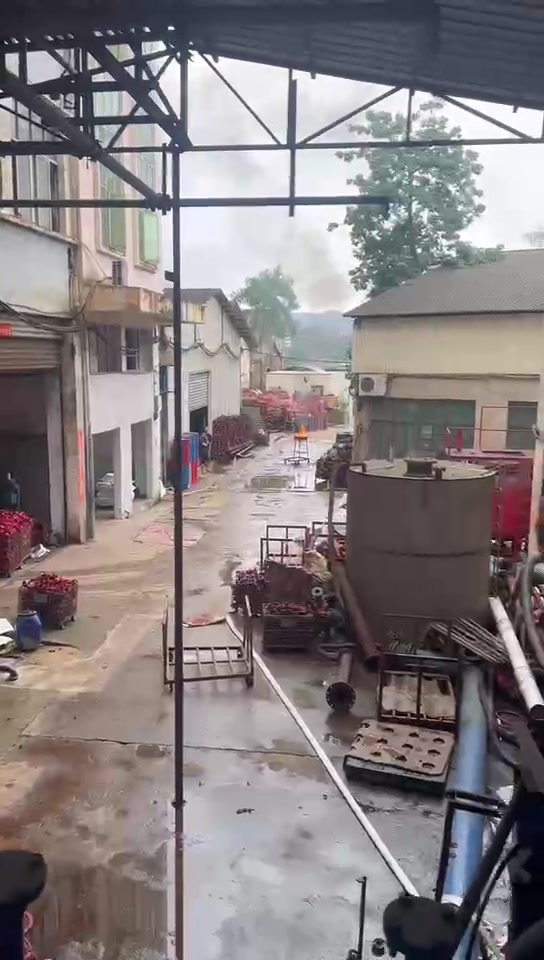fire: (295, 424, 307, 437), (278, 266, 283, 270)
